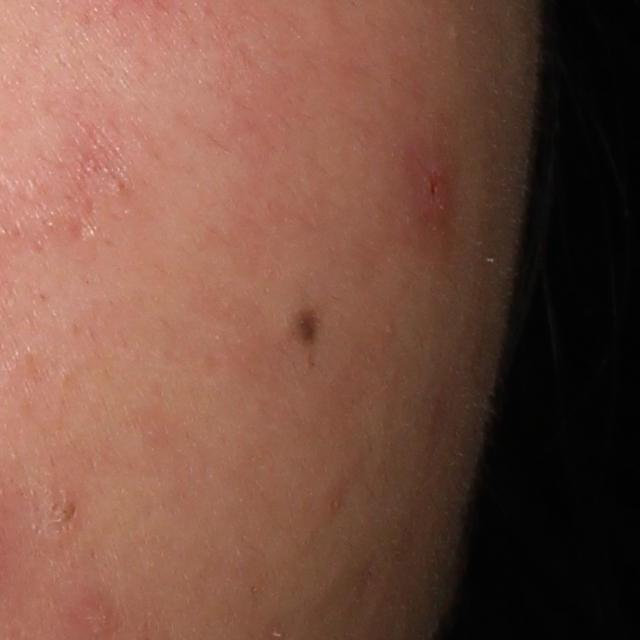nevus: (292, 305, 324, 349)
papule: (412, 153, 452, 216)
